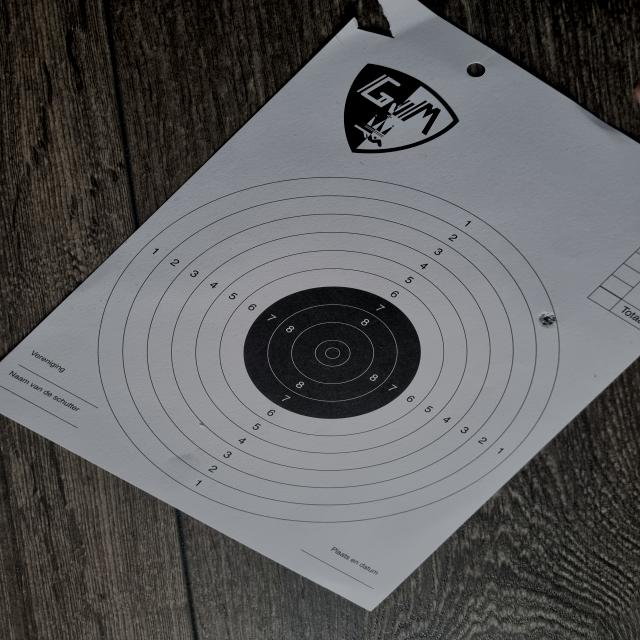1: (537, 312, 556, 328)
Target: (95, 175, 558, 524)
black_contour: (234, 286, 423, 422)
